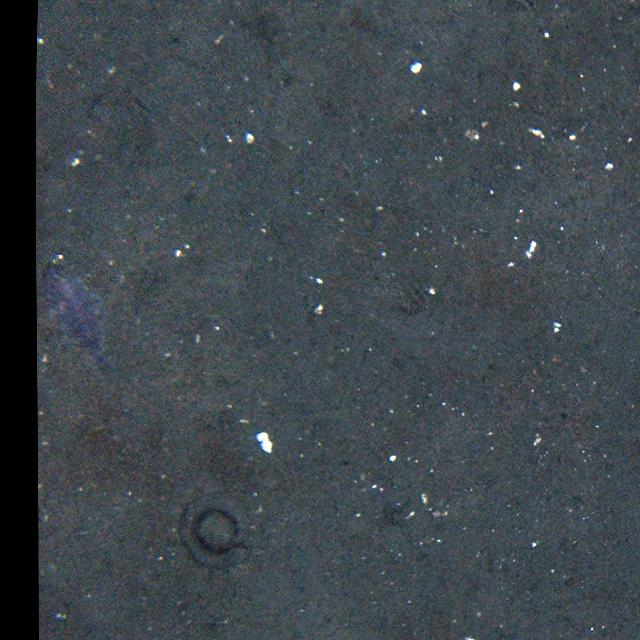flatfish: (42, 262, 121, 379)
